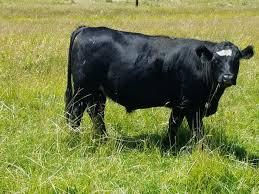cow: (65, 25, 255, 158)
